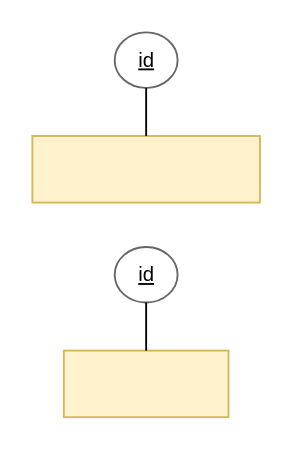
The diagram is 292 pixels wide and 450 high, and some of its shapes have lost their labels. The centre of each missing label's shape, as x and y in pixels:
shared_audit_log: point (145, 168)
shared_file: point (145, 383)
